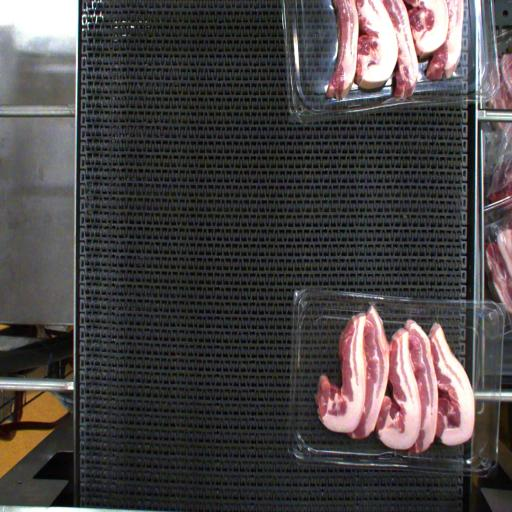packaging-error: (360, 286, 383, 315)
